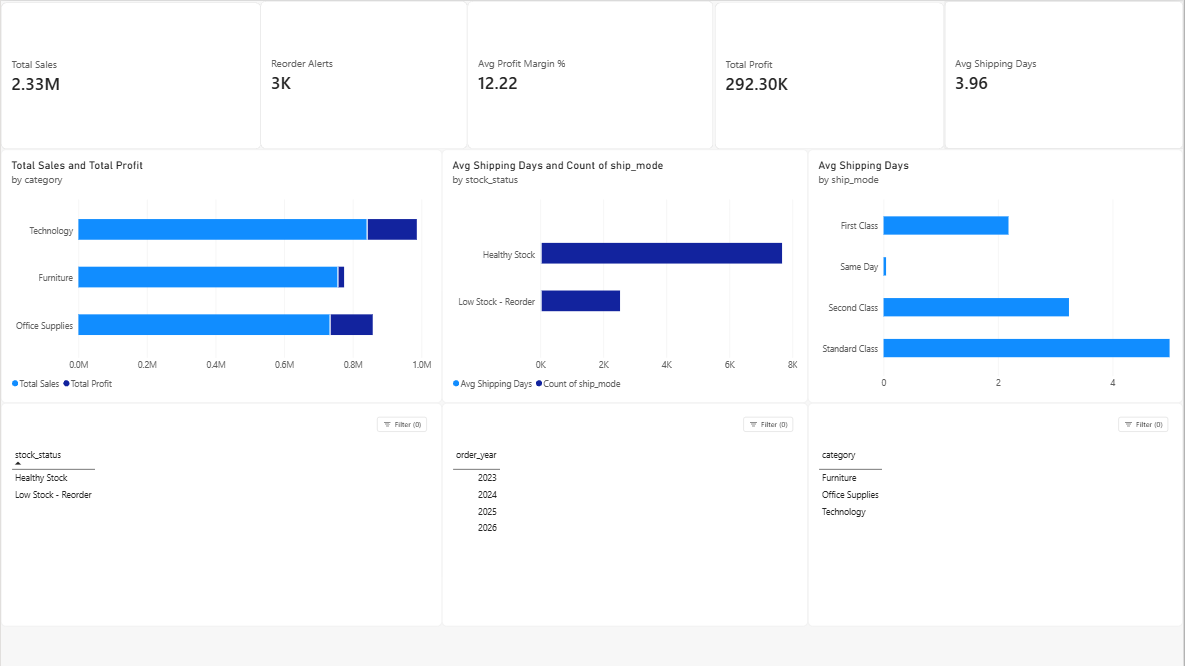

The dashboard page shown, as its layout file describes it:
{"tool":"powerbi","page":{"name":"Page 1","canvas":[1920,1080],"ordinal":0},"visuals":[{"type":"cardVisual","fields":{"Data":["retail_sales_inventory_ready.Reorder Alerts"]},"box":[422.5,0,336.2,240.8],"z":0},{"type":"cardVisual","fields":{"Data":["retail_sales_inventory_ready.Total Profit"]},"box":[1158.4,2.3,372.5,238.5],"z":2},{"type":"cardVisual","fields":{"Data":["retail_sales_inventory_ready.Avg Profit Margin %"]},"box":[758.6,0,399.8,240.8],"z":3},{"type":"cardVisual","fields":{"Data":["retail_sales_inventory_ready.Avg Shipping Days"]},"box":[1530.9,0,388.4,240.8],"z":4},{"type":"cardVisual","fields":{"Data":["retail_sales_inventory_ready.Total Sales"]},"box":[0,2.3,422.5,238.5],"z":5},{"type":"barChart","fields":{"Category":["retail_sales_inventory_ready.category"],"Y":["retail_sales_inventory_ready.Total Sales","retail_sales_inventory_ready.Total Profit"]},"box":[0,241.1,716,411.6],"z":6},{"type":"barChart","fields":{"Category":["retail_sales_inventory_ready.stock_status"],"Y":["retail_sales_inventory_ready.Avg Shipping Days","CountNonNull(retail_sales_inventory_ready.ship_mode)"]},"box":[716,241.1,594.3,411.6],"z":7},{"type":"tableEx","fields":{"Values":["retail_sales_inventory_ready.stock_status"]},"box":[0,652.7,716,362.9],"z":8},{"type":"barChart","fields":{"Category":["retail_sales_inventory_ready.ship_mode"],"Y":["retail_sales_inventory_ready.Avg Shipping Days"]},"box":[1310.3,241.1,608.9,411.6],"z":9},{"type":"tableEx","fields":{"Values":["retail_sales_inventory_ready.category"]},"box":[1310.3,652.7,608.9,362.9],"z":10},{"type":"tableEx","fields":{"Values":["retail_sales_inventory_ready.order_year"]},"box":[716,652.7,594.3,362.9],"z":12}]}

Visuals, with their boxes in screenshot pixels (x1, y1, x2, y2), scaled from the page's 1920x1080 canvas onto the 1186x666 screenshot:
cardVisual - retail_sales_inventory_ready.Reorder Alerts: select_region(261, 0, 469, 148)
cardVisual - retail_sales_inventory_ready.Total Profit: select_region(716, 1, 946, 148)
cardVisual - retail_sales_inventory_ready.Avg Profit Margin %: select_region(469, 0, 716, 148)
cardVisual - retail_sales_inventory_ready.Avg Shipping Days: select_region(946, 0, 1185, 148)
cardVisual - retail_sales_inventory_ready.Total Sales: select_region(0, 1, 261, 148)
barChart - retail_sales_inventory_ready.category x retail_sales_inventory_ready.Total Sales: select_region(0, 149, 442, 402)
barChart - retail_sales_inventory_ready.stock_status x retail_sales_inventory_ready.Avg Shipping Days: select_region(442, 149, 809, 402)
tableEx - retail_sales_inventory_ready.stock_status: select_region(0, 402, 442, 626)
barChart - retail_sales_inventory_ready.ship_mode x retail_sales_inventory_ready.Avg Shipping Days: select_region(809, 149, 1185, 402)
tableEx - retail_sales_inventory_ready.category: select_region(809, 402, 1185, 626)
tableEx - retail_sales_inventory_ready.order_year: select_region(442, 402, 809, 626)
